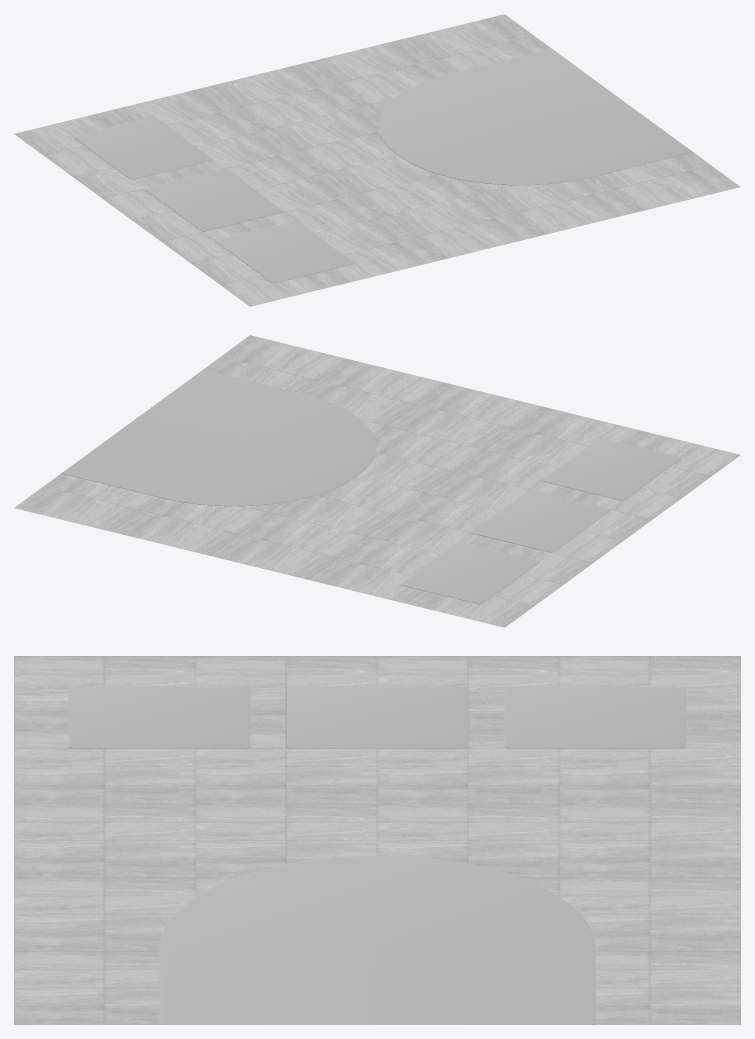
3 renders of one model, top to bottom at view 1: azimuth 30°, elevation 25°; view 2: azimuth 150°, elevation 25°; view 3: azimuth 270°, elevation 25°, orthographic. The views are drawn at different scales.
Visible parts, largest first — view 1: M_F_001_f_24x20; view 2: M_F_001_f_24x20; view 3: M_F_001_f_24x20.
Boxes of the visible parts, left/top/right/bottom form: M_F_001_f_24x20: left=14, top=14, right=740, bottom=306; M_F_001_f_24x20: left=14, top=335, right=740, bottom=627; M_F_001_f_24x20: left=14, top=656, right=740, bottom=1024.
Bounding box in the file's own units: 24 × 0.01 × 20.
